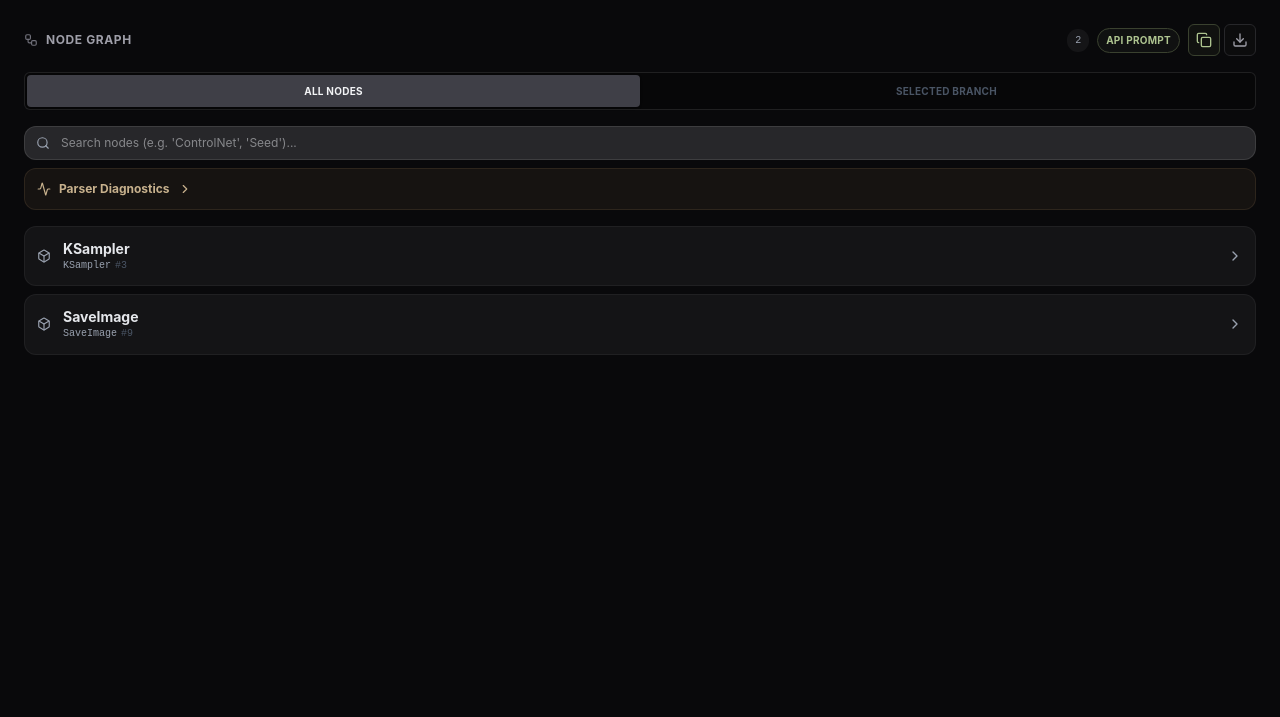
Test: WorkflowInspector ComfyUI parser diagnostics › renders an explicit empty state when diagnostics have no field sources
What coordinates should you click on to do the following:
click the button "Parser Diagnostics"
I would click on:
 (114, 188)
Its box is [37,181,1243,197].
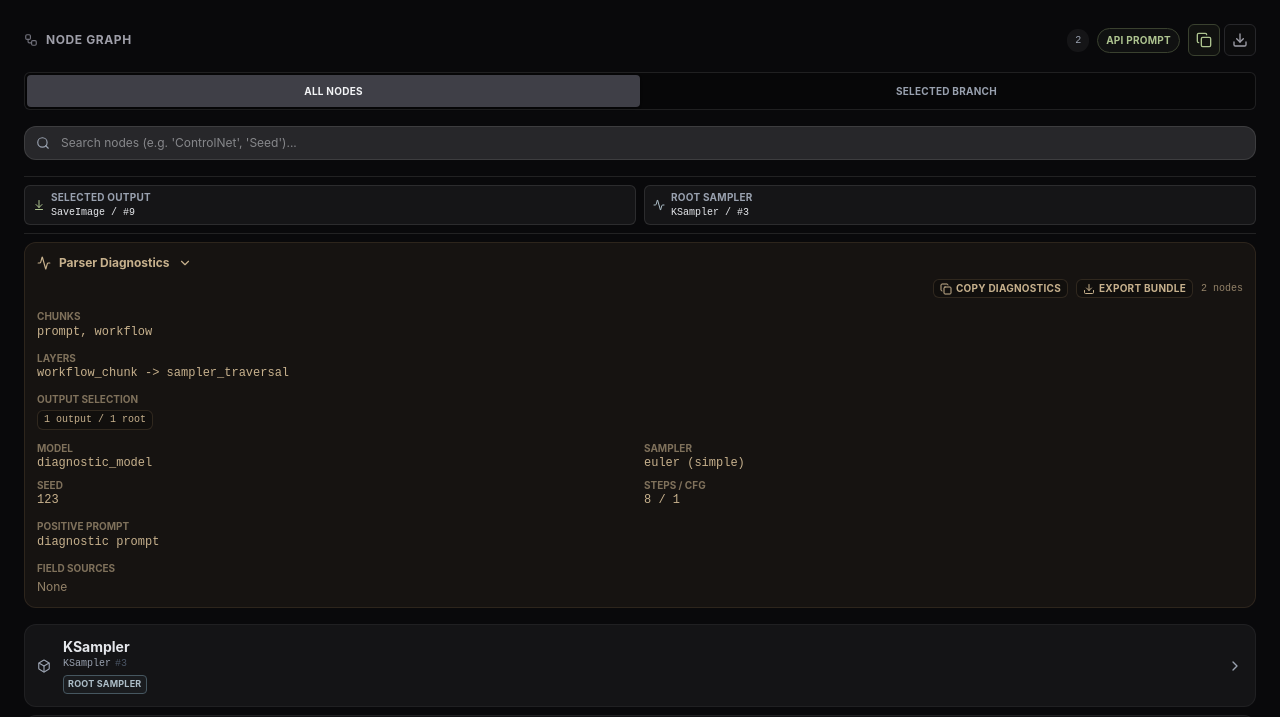
Check: the text "Parser Diagnostics" is shown, box [59,255,170,271]
Check: the text "None" is shown, box [37,579,67,595]
